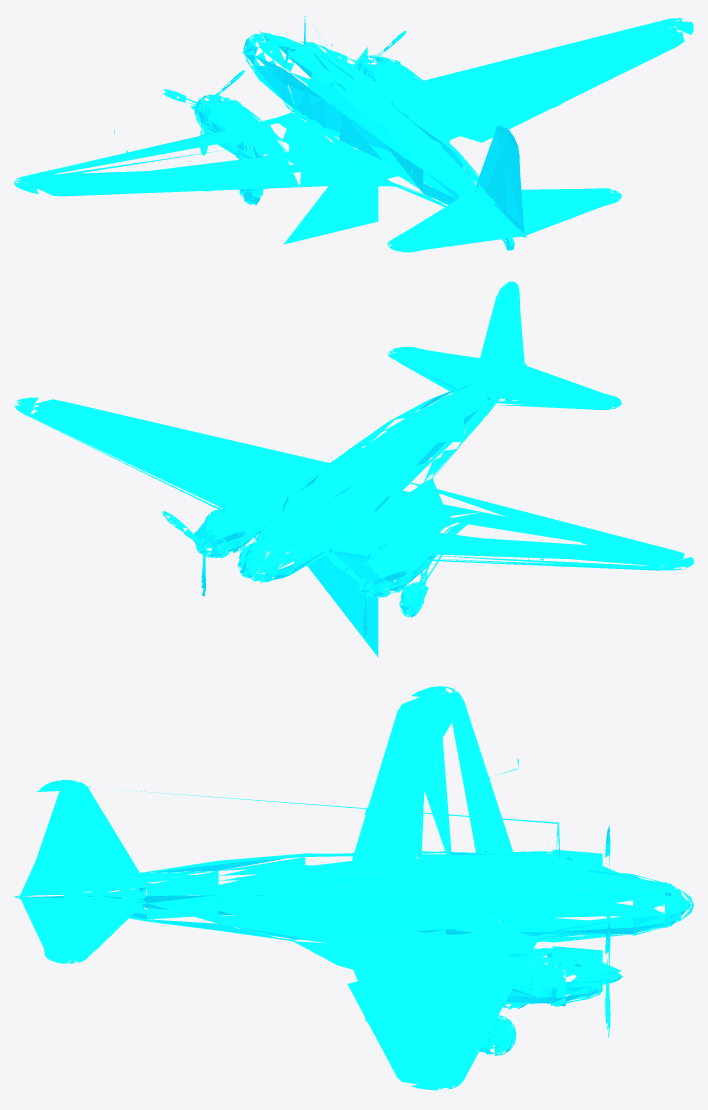
The model's file is PXAS001.glb.
The picture shows the model from 3 angles, top to bottom: view 1: azimuth 30°, elevation 25°; view 2: azimuth 150°, elevation 25°; view 3: azimuth 270°, elevation 25°; orthographic projection. The views are drawn at different scales.
Parts seen in each view (by area): view 1: misc; view 2: misc; view 3: misc.
Boxes of the visible parts, <box> form: misc: <box>14,15,693,252</box>; misc: <box>14,281,693,656</box>; misc: <box>14,686,693,1090</box>.
Bounding box in the file's own units: 1.51 × 0.4997 × 1.07.
